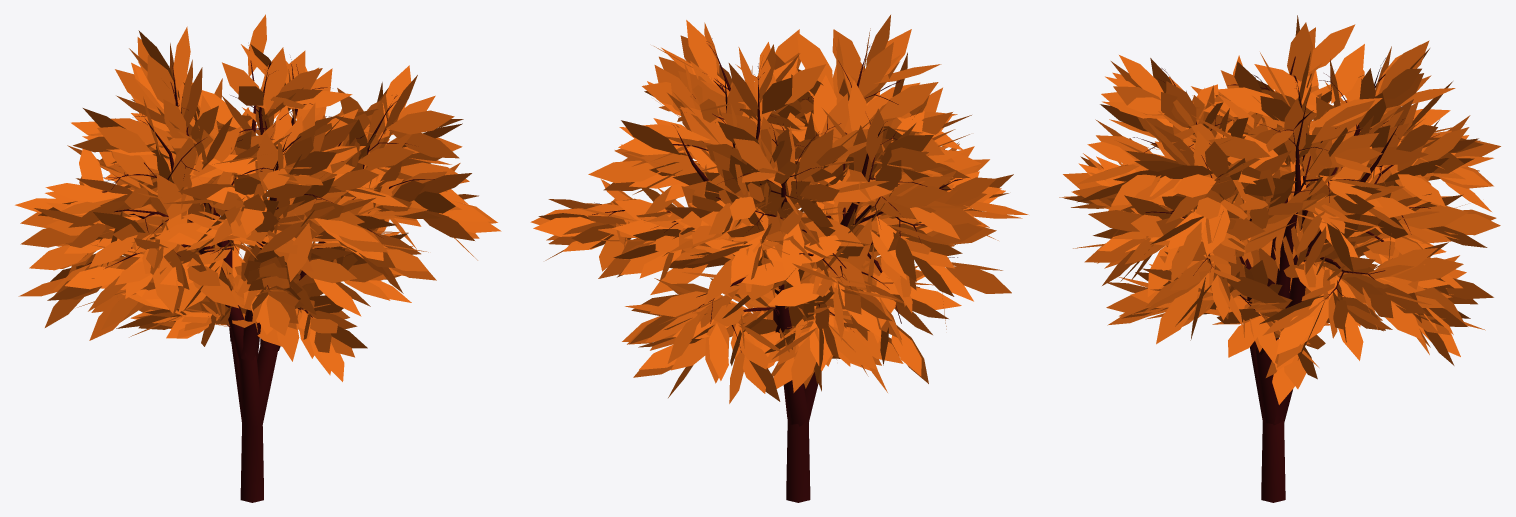
Rendered from arvore fall2.fbx.
The picture shows the model from 3 angles, left to right: view 1: azimuth 30°, elevation 25°; view 2: azimuth 150°, elevation 25°; view 3: azimuth 270°, elevation 25°; orthographic projection. The views are drawn at different scales.
Parts seen in each view (by area): view 1: tree; view 2: tree; view 3: tree.
Boxes of the visible parts, <box> form: tree: <box>15,14,501,502</box>; tree: <box>530,15,1028,502</box>; tree: <box>1059,15,1500,502</box>.
Size of the model in its own units: 1976 by 1925 by 1757.
